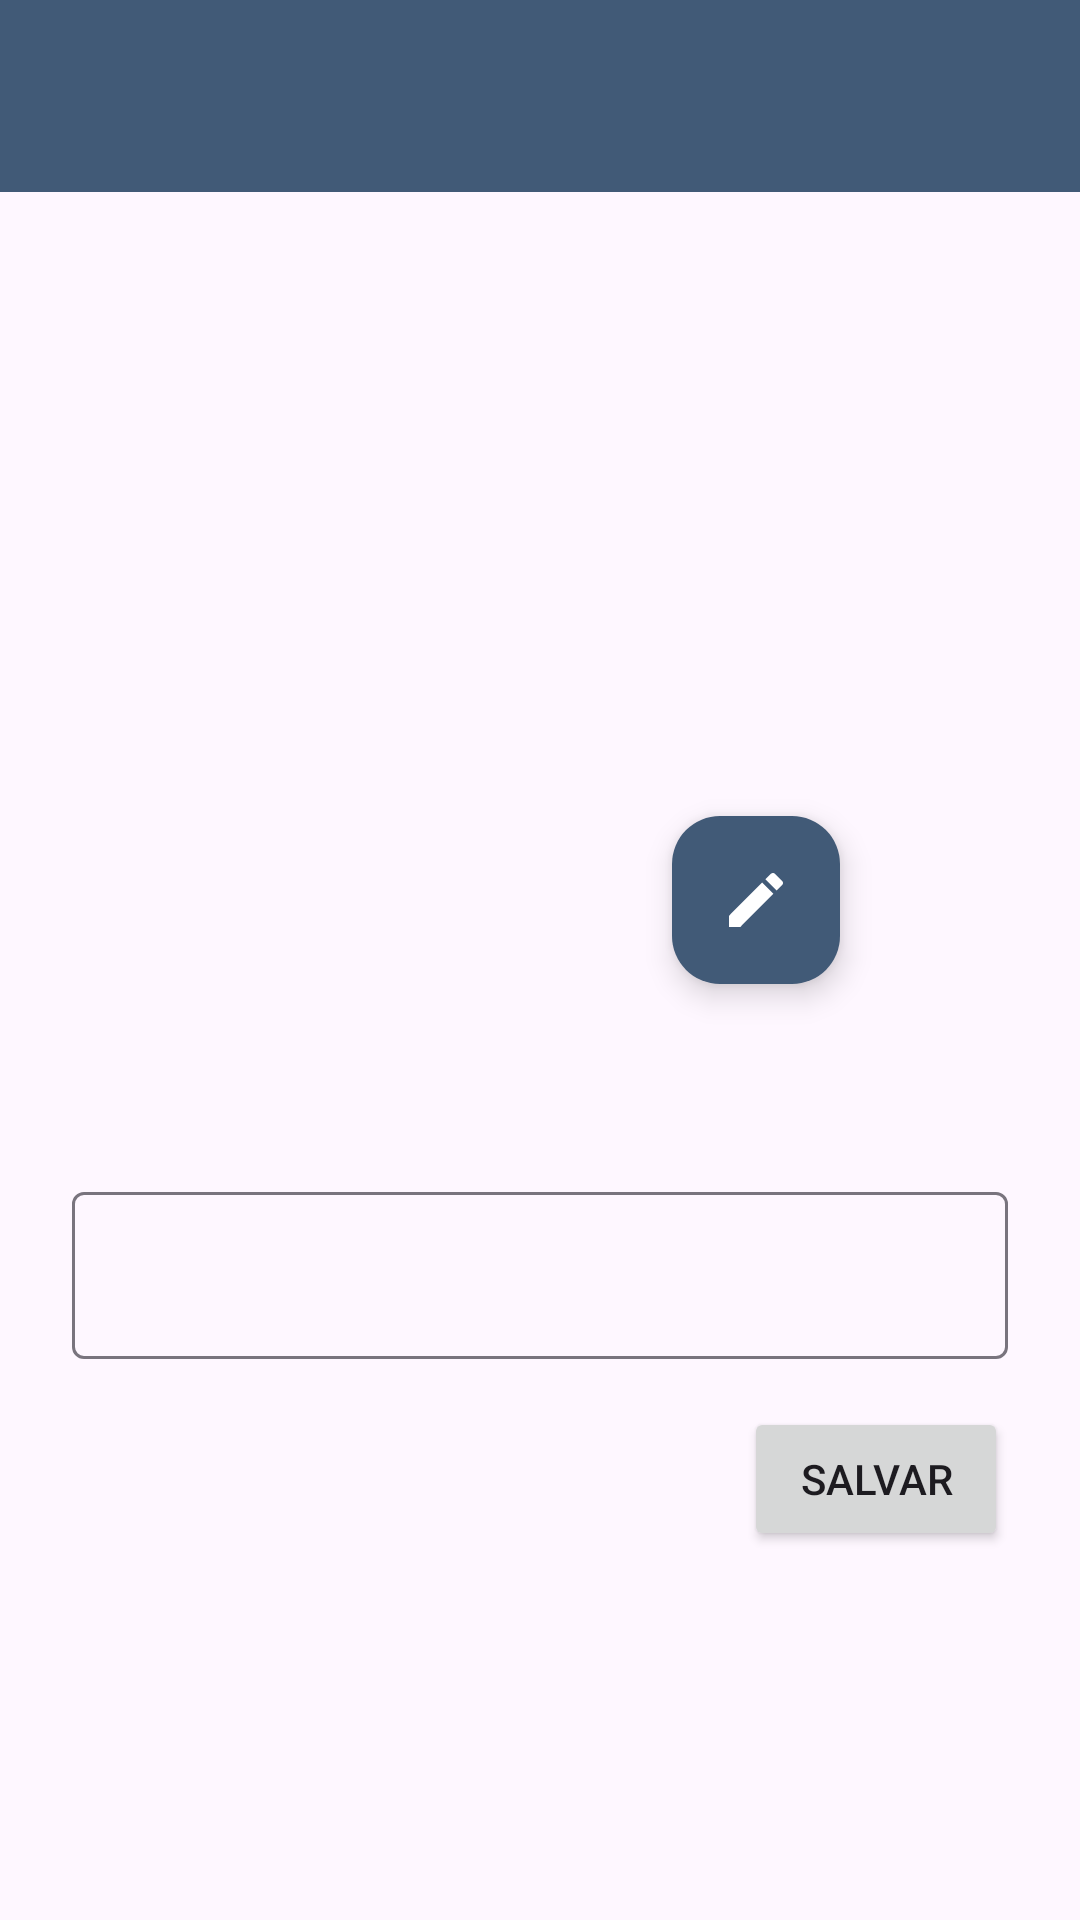

Locate icon controls on the screen. Image size 1080px x 1920px, boxes as (x1, y1, x2, y2).
Botão para editar foto de perfil: (672, 816, 840, 984)
